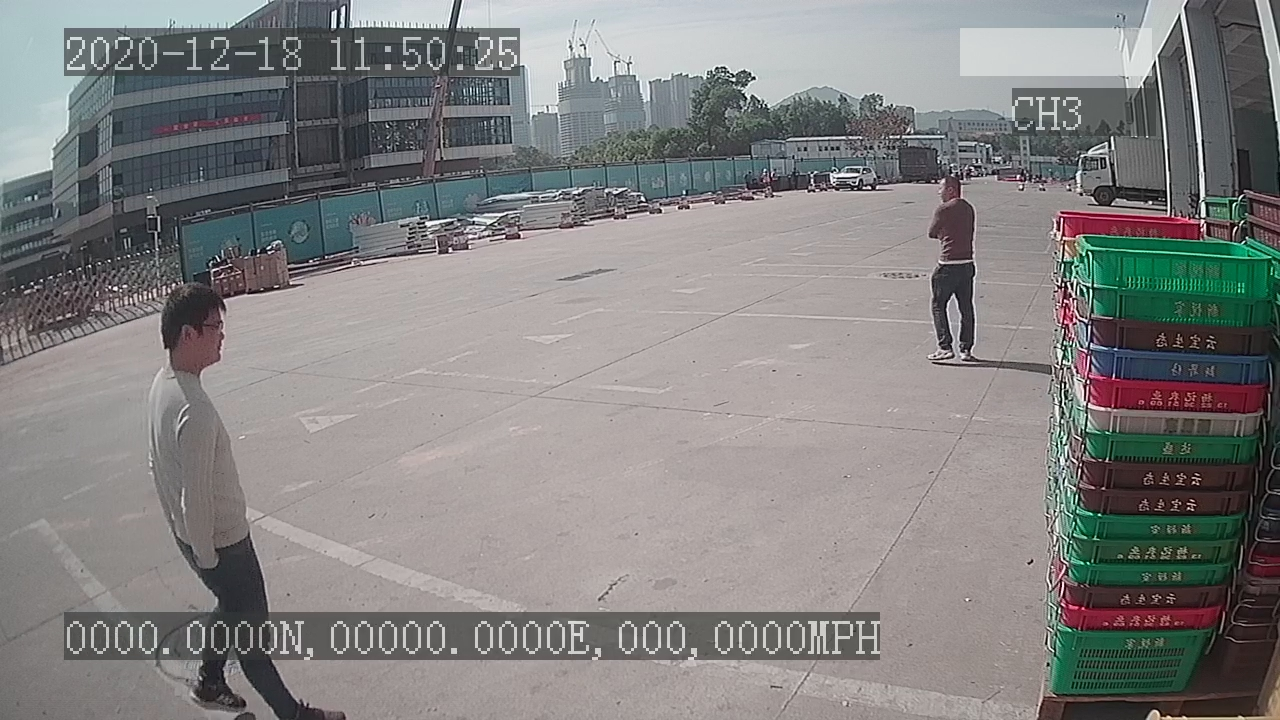person: (922, 172, 981, 367)
